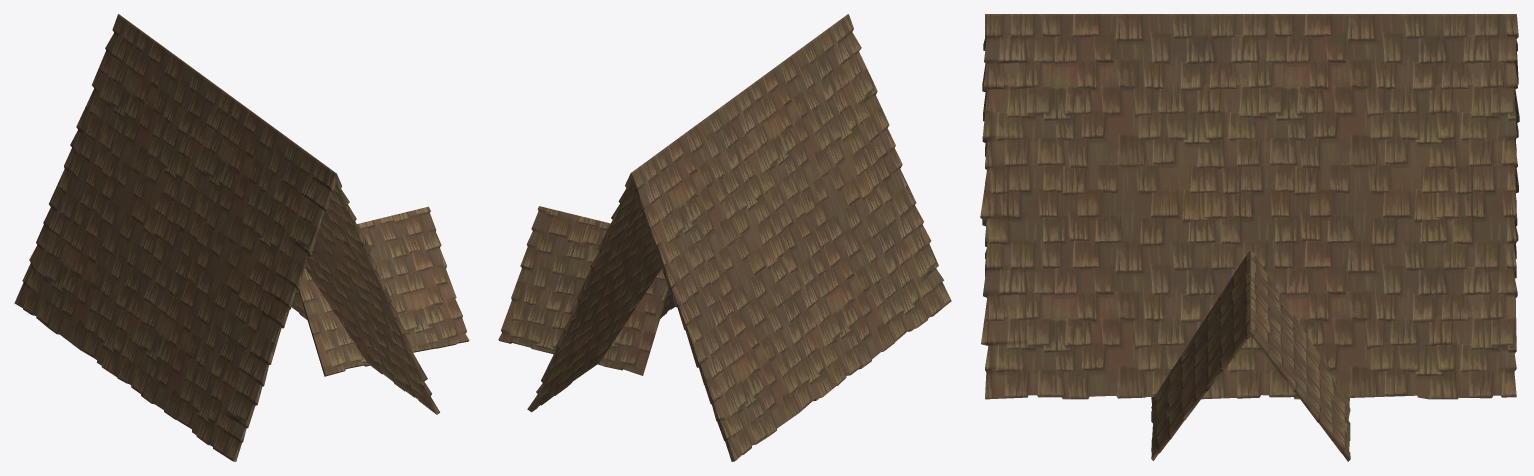
The model's file is roofs.FBX.
3 renders of one model, left to right at view 1: azimuth 30°, elevation 25°; view 2: azimuth 150°, elevation 25°; view 3: azimuth 270°, elevation 25°, orthographic. The views are drawn at different scales.
Visible parts, largest first — view 1: roof, gift shop roof; view 2: roof, gift shop roof; view 3: roof, gift shop roof.
Part boxes in pixels (<box>): roof: <box>14,14,439,461</box>; gift shop roof: <box>298,206,469,376</box>; roof: <box>527,14,951,461</box>; gift shop roof: <box>498,206,668,375</box>; roof: <box>980,14,1519,399</box>; gift shop roof: <box>1151,250,1350,461</box>.
Bounding box in the file's own units: 1230 × 1029 × 1533.
